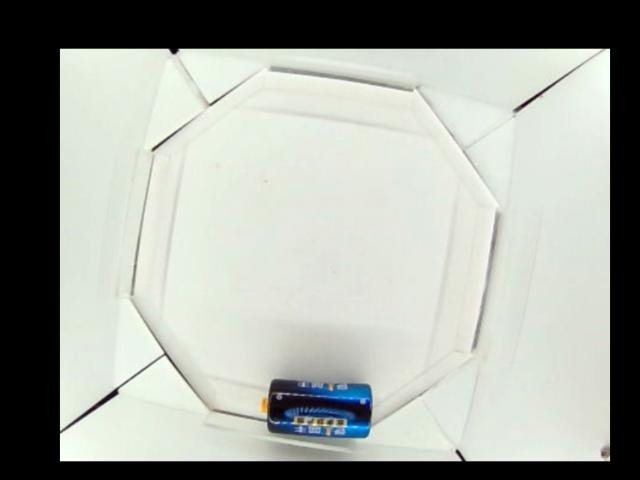Battery: (261, 381, 372, 437)
